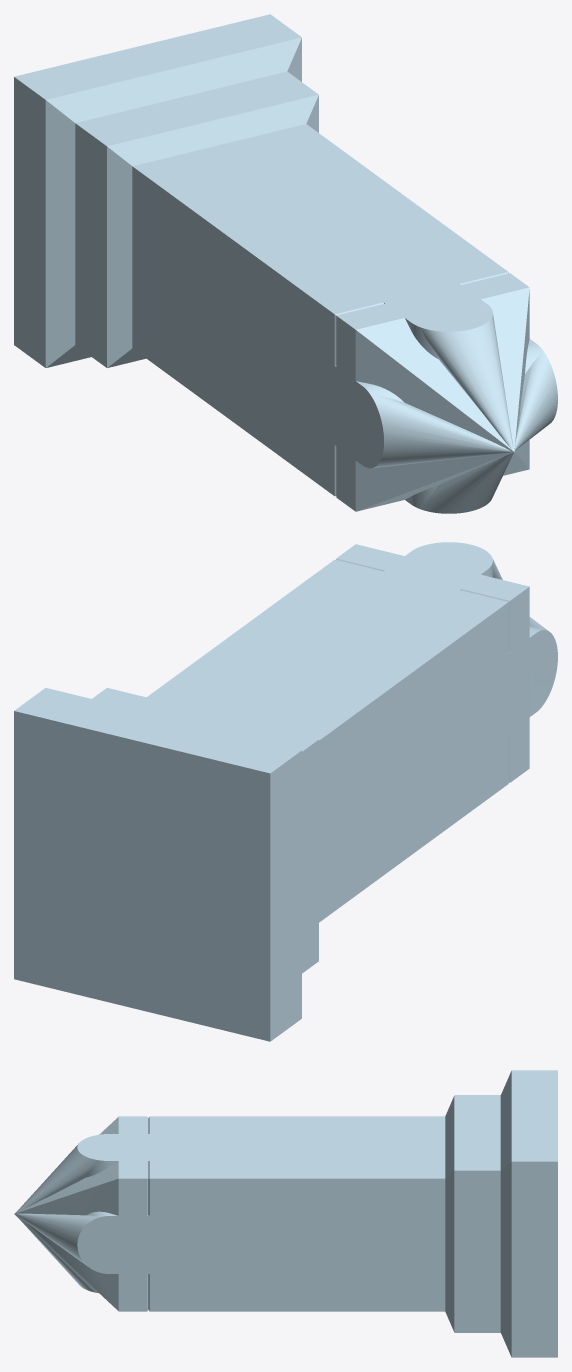
3 views of the same model, one above another, from view 1: azimuth 30°, elevation 25°; view 2: azimuth 150°, elevation 25°; view 3: azimuth 270°, elevation 25° (orthographic). The views are drawn at different scales.
Parts seen in each view (by area): view 1: PA-473-F_LOD0; view 2: PA-473-F_LOD0; view 3: PA-473-F_LOD0.
Boxes of the visible parts, bbox=[...] form: PA-473-F_LOD0: bbox=[14, 14, 557, 513]; PA-473-F_LOD0: bbox=[14, 542, 557, 1041]; PA-473-F_LOD0: bbox=[14, 1070, 557, 1357].
Size of what is drawn, in the model's own units: 35.56 by 35.56 by 89.43.
